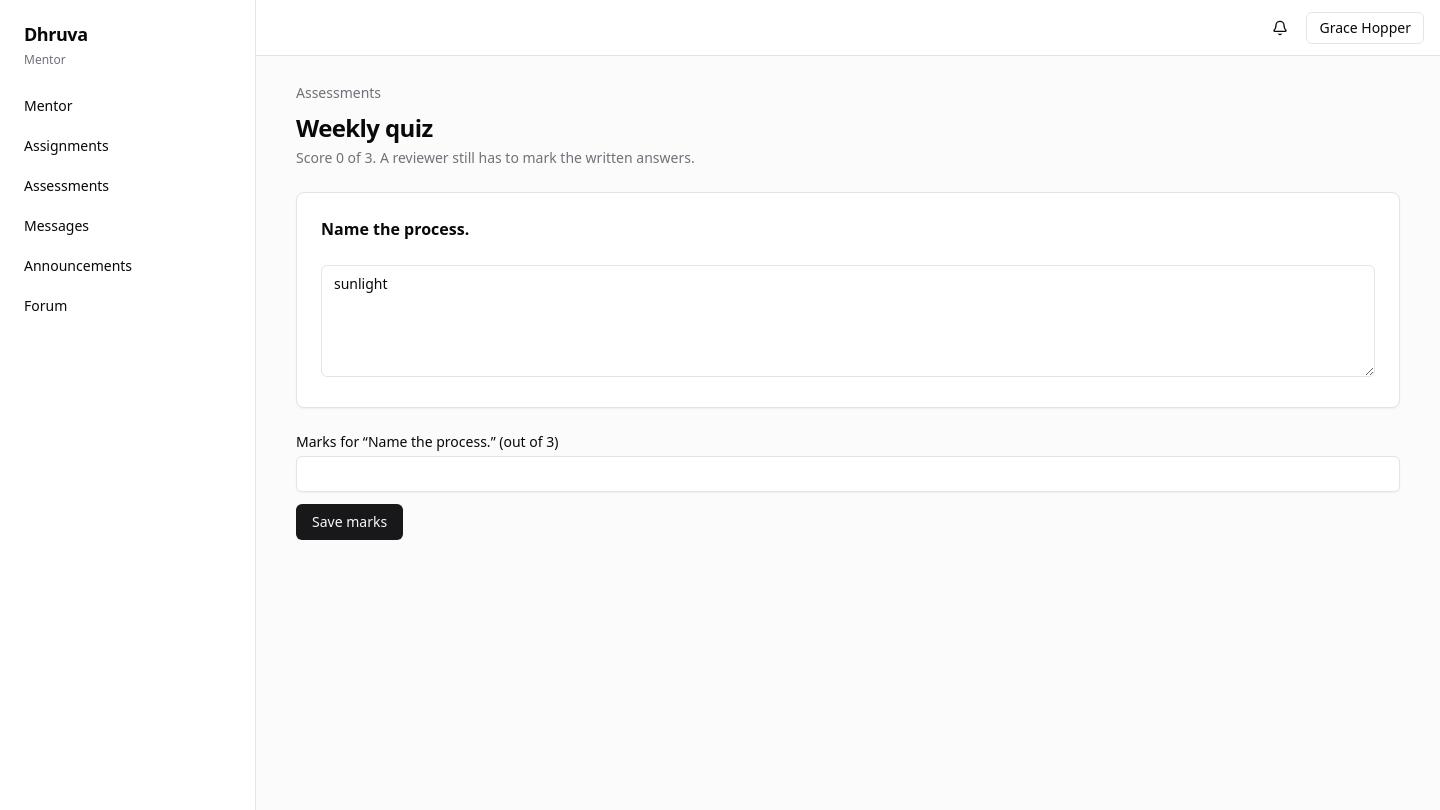
Test case: manual grading › lets a mentor record marks for a written answer
Expected: the heading "Name the process." is shown, [321,218,469,240]
Step 1. Type "3" into the number field labelled "Marks for “Name the process.” (out of 3)" → (848, 474), box [296,456,1400,492]
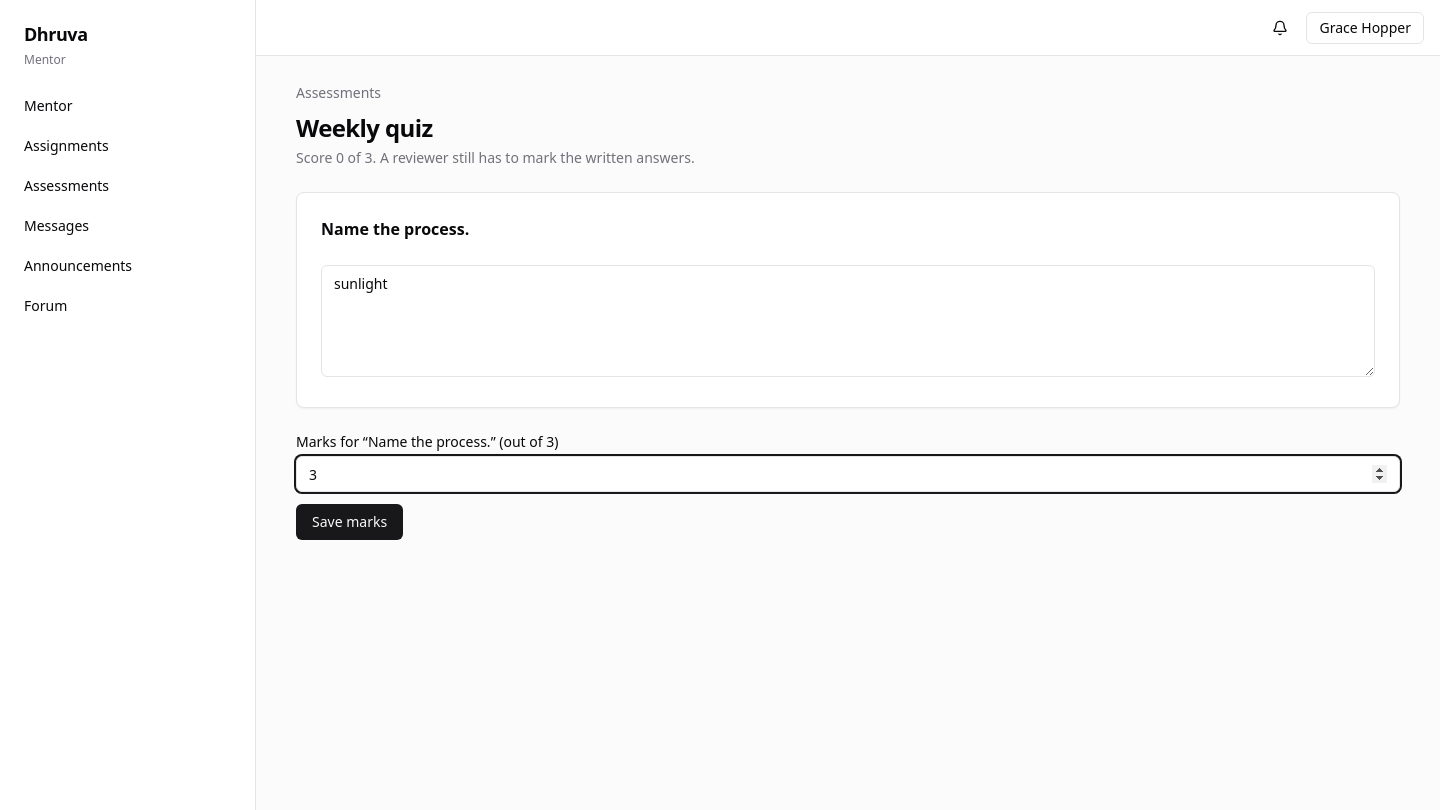
Step 2. Click the button "Save marks" → (350, 522), box [296,504,403,540]
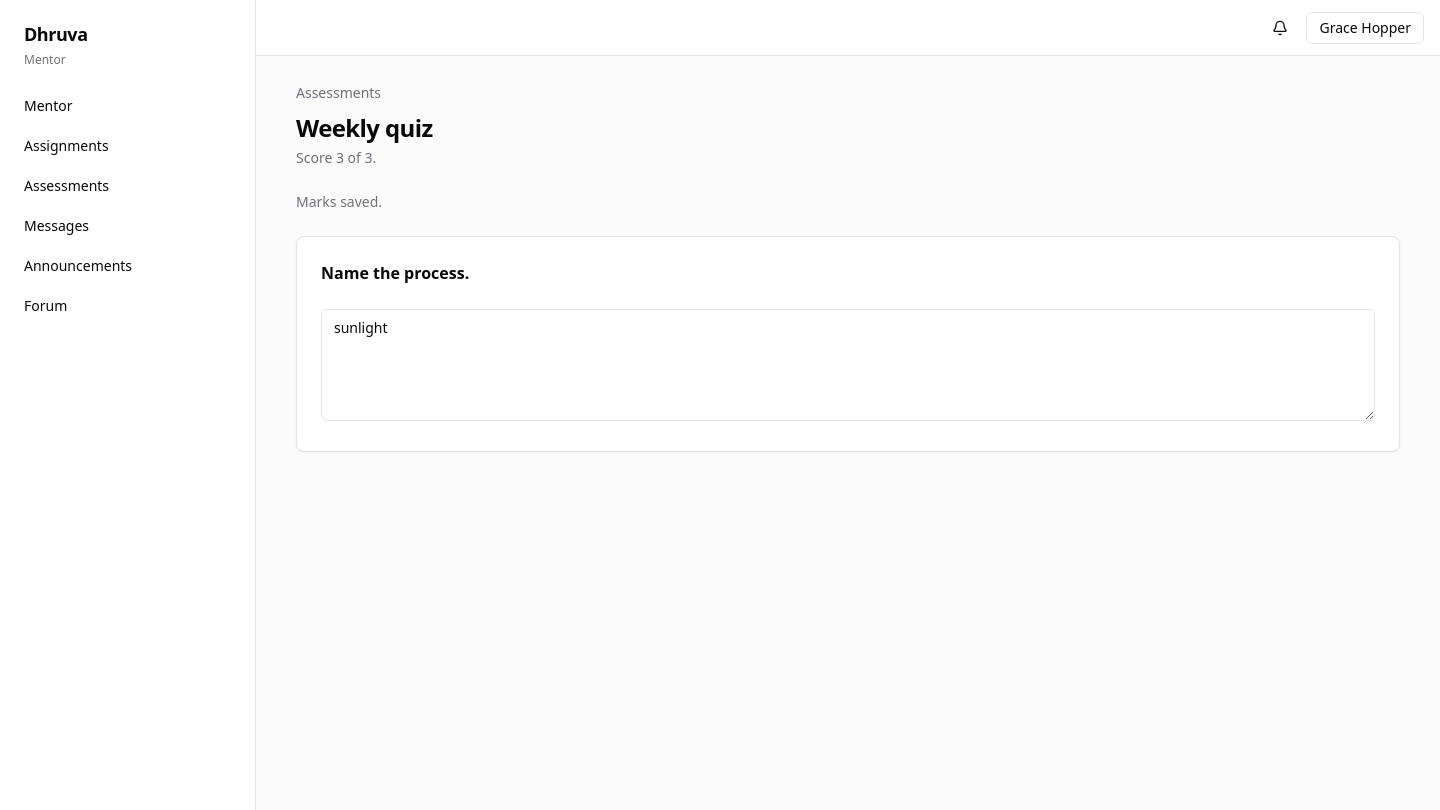
Now the text "Marks saved." is shown, box [296,192,382,211]
Now the text "Score 3 of 3." is shown, box [296,148,376,167]
